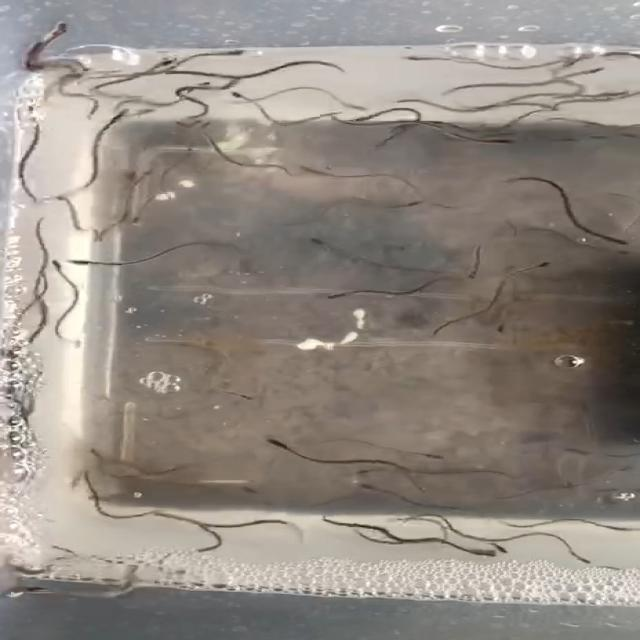inactive_glass_eel: (241, 425, 321, 458), (183, 34, 258, 66), (382, 187, 446, 216), (344, 454, 396, 488), (504, 246, 570, 271), (351, 475, 401, 507), (558, 56, 613, 81), (311, 279, 359, 307), (482, 130, 536, 153), (443, 258, 488, 285), (409, 442, 452, 470), (102, 104, 140, 135), (451, 540, 504, 562), (28, 20, 89, 39), (15, 253, 72, 272), (61, 254, 117, 273), (131, 53, 179, 74), (284, 165, 333, 185), (337, 108, 392, 125), (594, 240, 626, 269), (384, 51, 431, 70), (565, 551, 599, 576), (177, 117, 219, 137), (295, 230, 341, 248), (0, 582, 43, 601), (110, 214, 158, 230), (208, 86, 261, 100), (597, 225, 630, 247), (21, 103, 55, 123)
